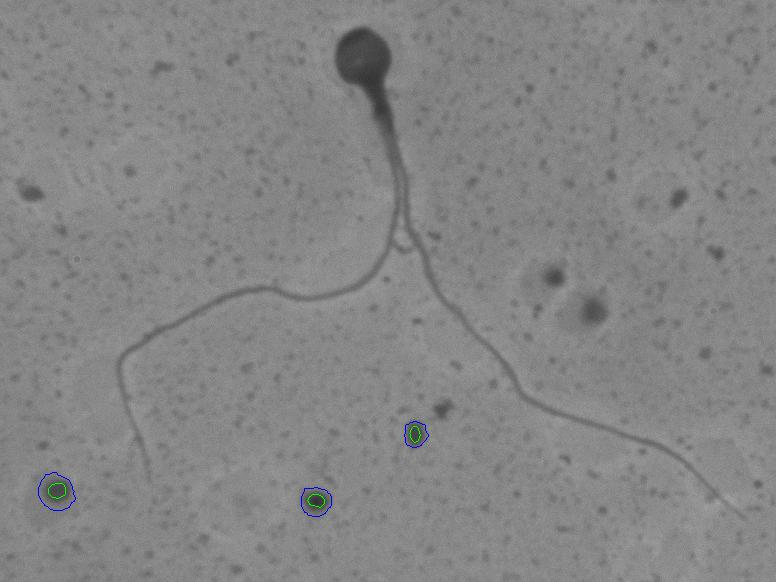Abnormal: (96, 8, 762, 552)
